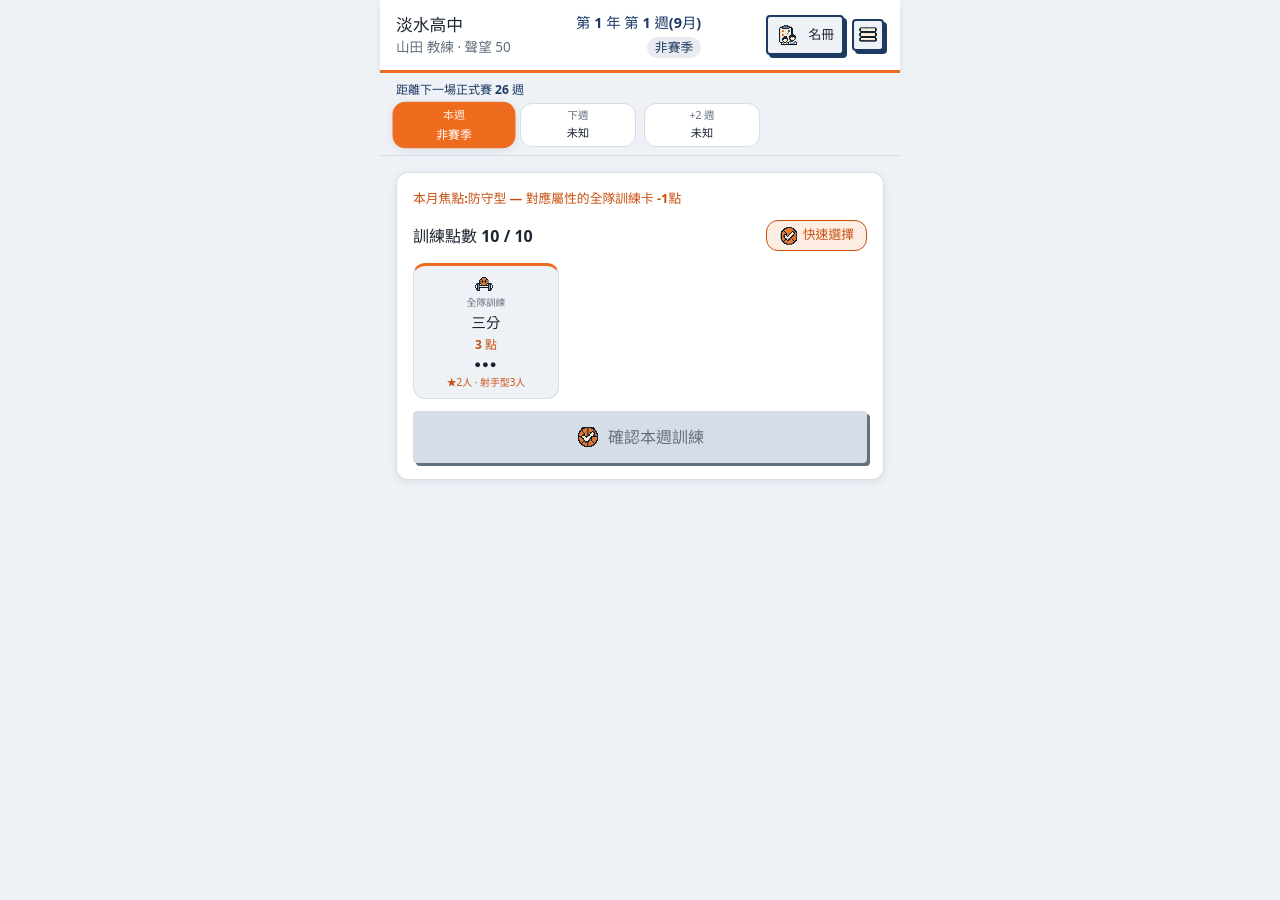
Test: App › advances the week and reports the result after a team-training card
Click the button "三分". click: (486, 331)
box: top-left (413, 263), bottom-right (559, 399)
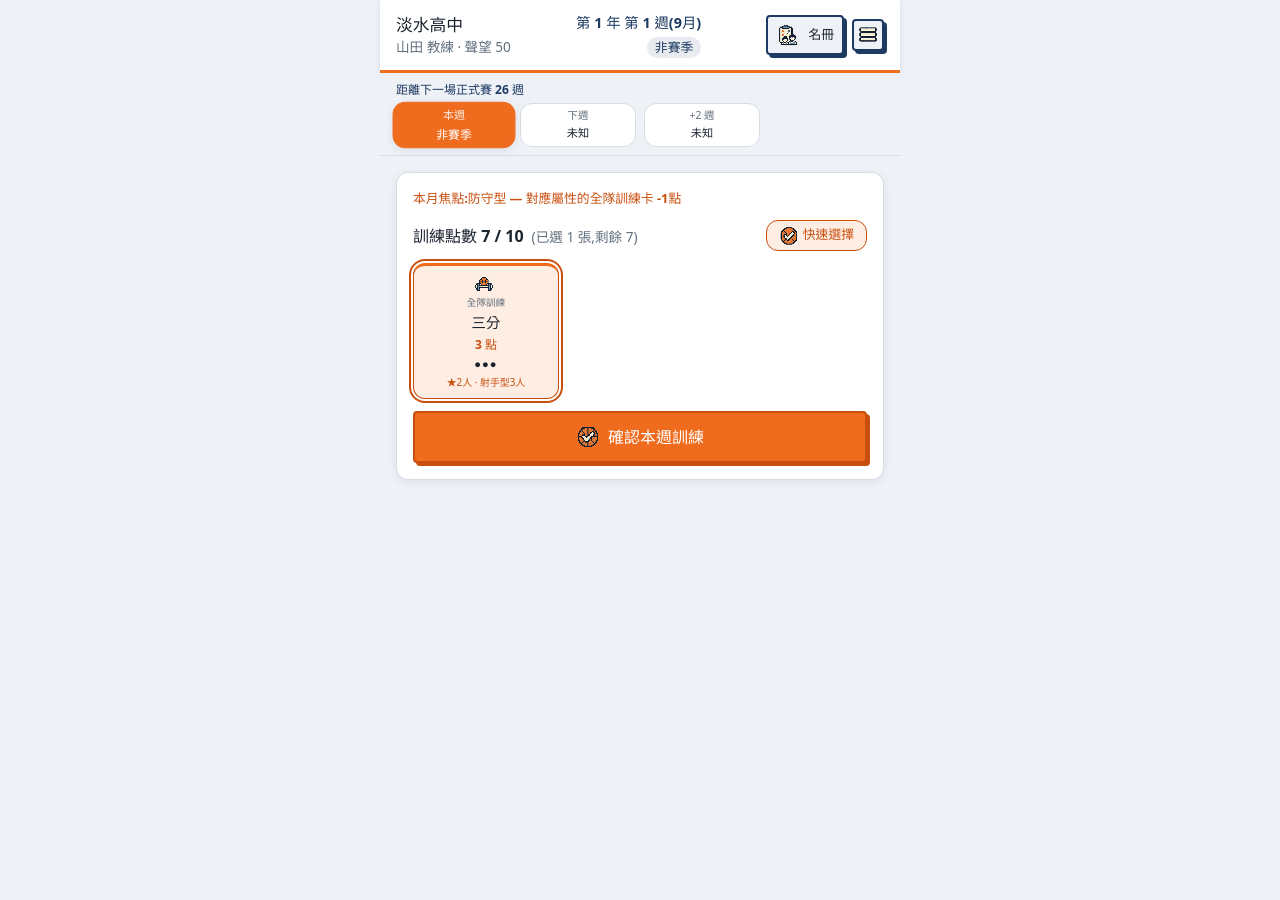
Click the button "確認本週訓練". click: (640, 437)
box: top-left (413, 411), bottom-right (867, 463)
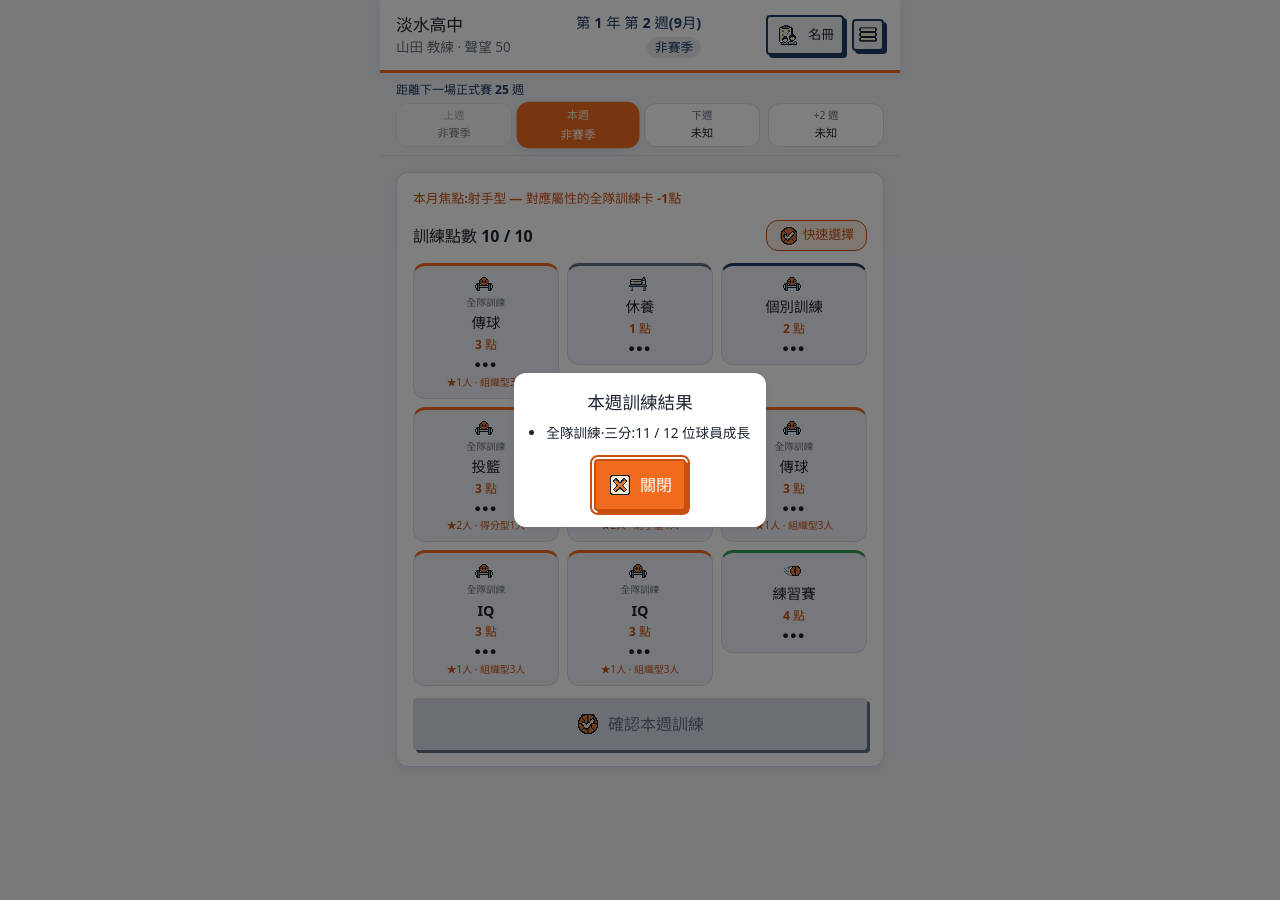
Expected: the list item "全隊訓練·三分:11 / 12 位球員成長" is shown, top-left (546, 423), bottom-right (750, 443)
Expected: the heading "本週訓練結果" is shown, top-left (587, 390), bottom-right (693, 414)
